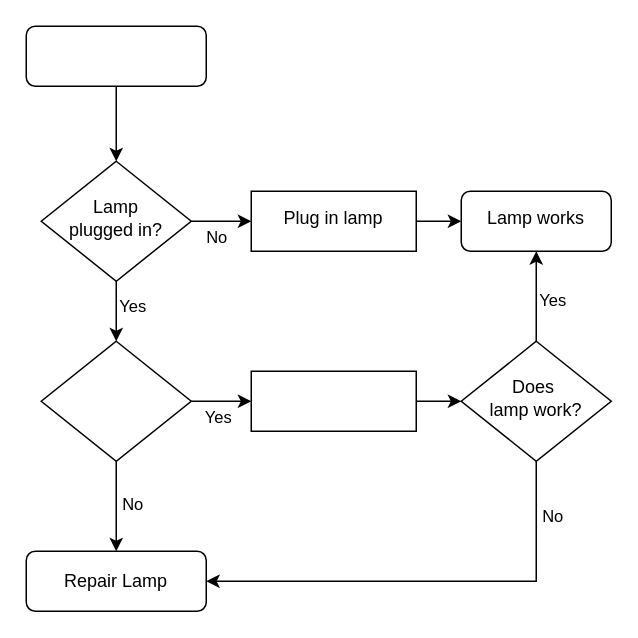
Some shapes in this 638 by 638 pixel diagram are drawn without their labels. The shapes that lost their labels are listed below. From the top down, each one's centre as x and y in pixels, then its label:
At (x=115, y=55): "Lamp doesn't work".
At (x=115, y=400): "Bulb burned out?".
At (x=333, y=400): "Change lightbulb".
